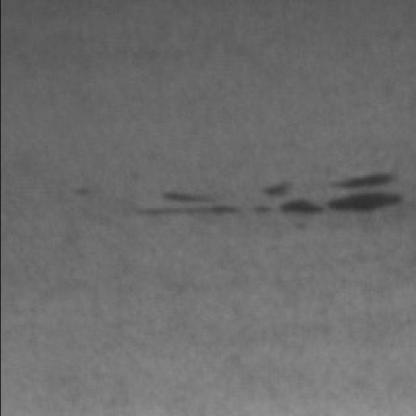inclusion: (127, 185, 329, 229), (326, 170, 414, 222)
